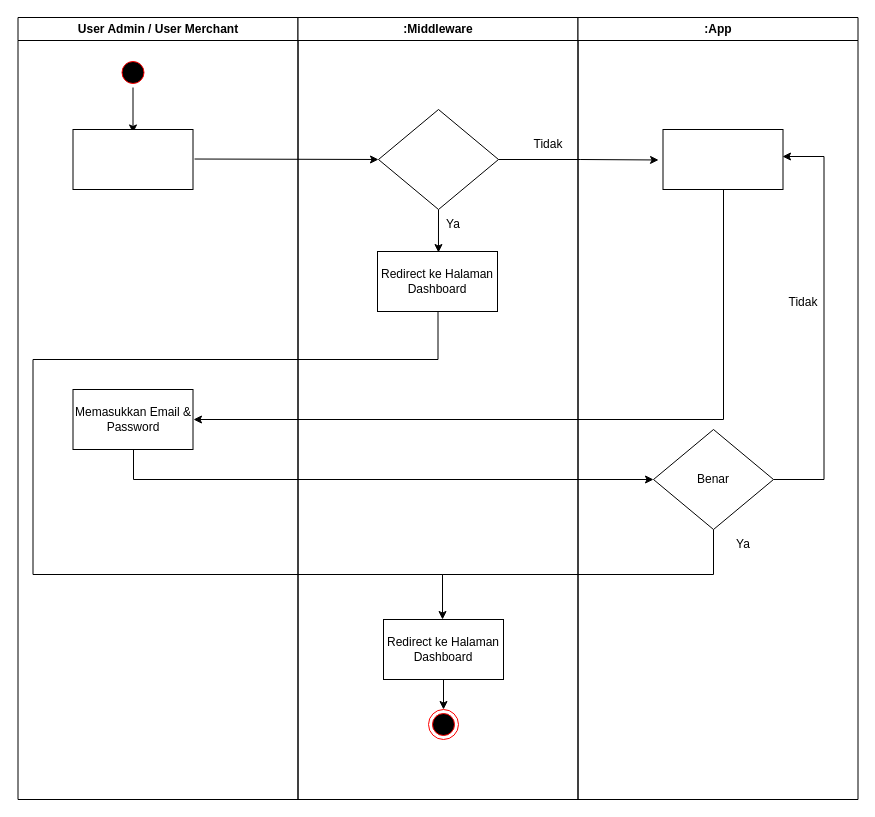
Some shapes in this 875 by 817 pixel diagram are drawn without their labels. Here are the shapes that lost their labels. From the top down, the centre of each, then its label:
point 132,159: Membuka CMS
point 438,159: Sudah Login?
point 722,159: Menampilkan Form Login
